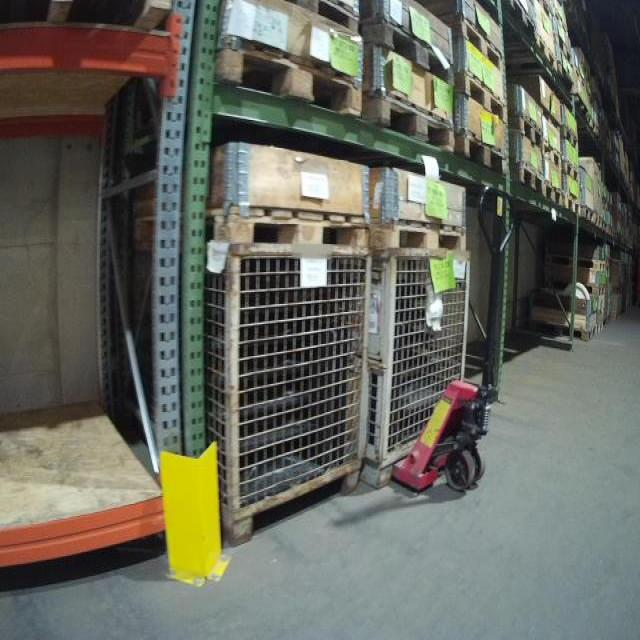pallet: (359, 17, 589, 119), (215, 32, 367, 119), (203, 200, 367, 253), (363, 86, 457, 154), (366, 213, 467, 255), (439, 10, 506, 70), (453, 67, 508, 125), (456, 127, 510, 178), (530, 319, 597, 345), (508, 160, 546, 199), (509, 112, 546, 150), (544, 253, 606, 273), (532, 33, 559, 72), (540, 139, 561, 169), (544, 179, 564, 207), (560, 122, 579, 150), (561, 156, 580, 181), (564, 194, 581, 215), (581, 206, 596, 224), (593, 284, 606, 298), (596, 321, 603, 335)
pallet_truck: (386, 183, 521, 500)
stillage: (110, 225, 377, 558), (353, 235, 487, 501)
